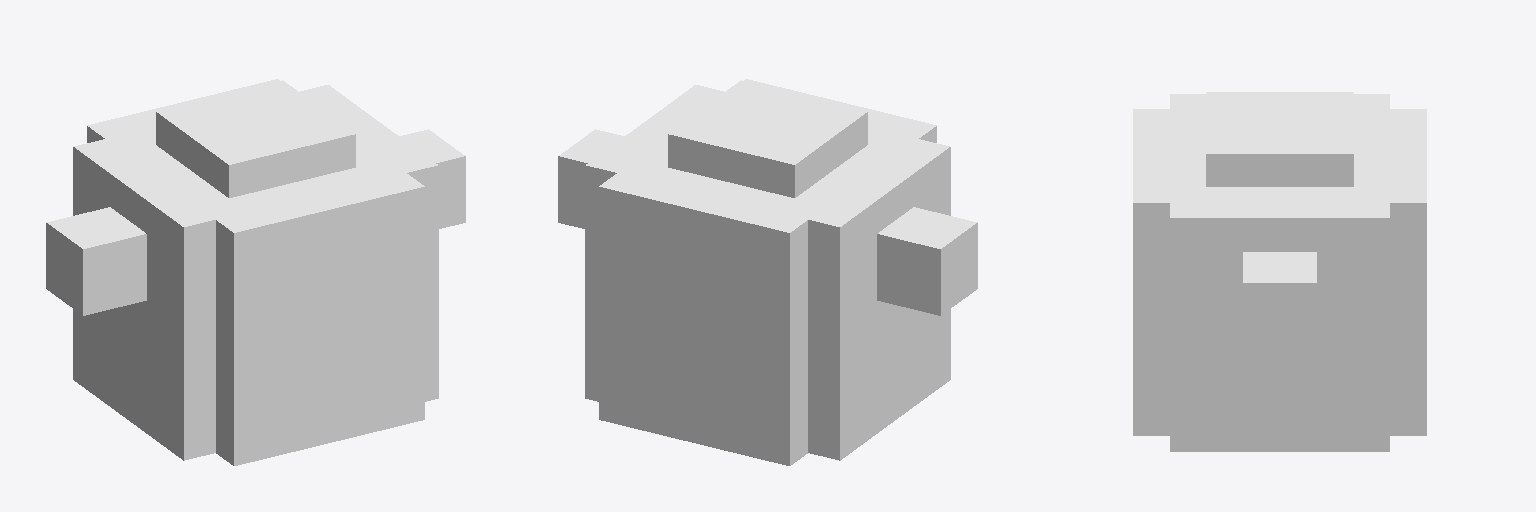
File: MinistryTorso.obj
The picture shows the model from 3 angles: view 1: azimuth 30°, elevation 25°; view 2: azimuth 150°, elevation 25°; view 3: azimuth 270°, elevation 25°; orthographic projection.
Visible parts, largest first — view 1: object 1; view 2: object 1; view 3: object 1.
Part boxes in pixels (bbox=[...]): object 1: bbox=[46, 79, 465, 465]; object 1: bbox=[558, 79, 977, 465]; object 1: bbox=[1133, 92, 1426, 451].
Size of the model in its own units: 1.2 by 0.8 by 0.8.